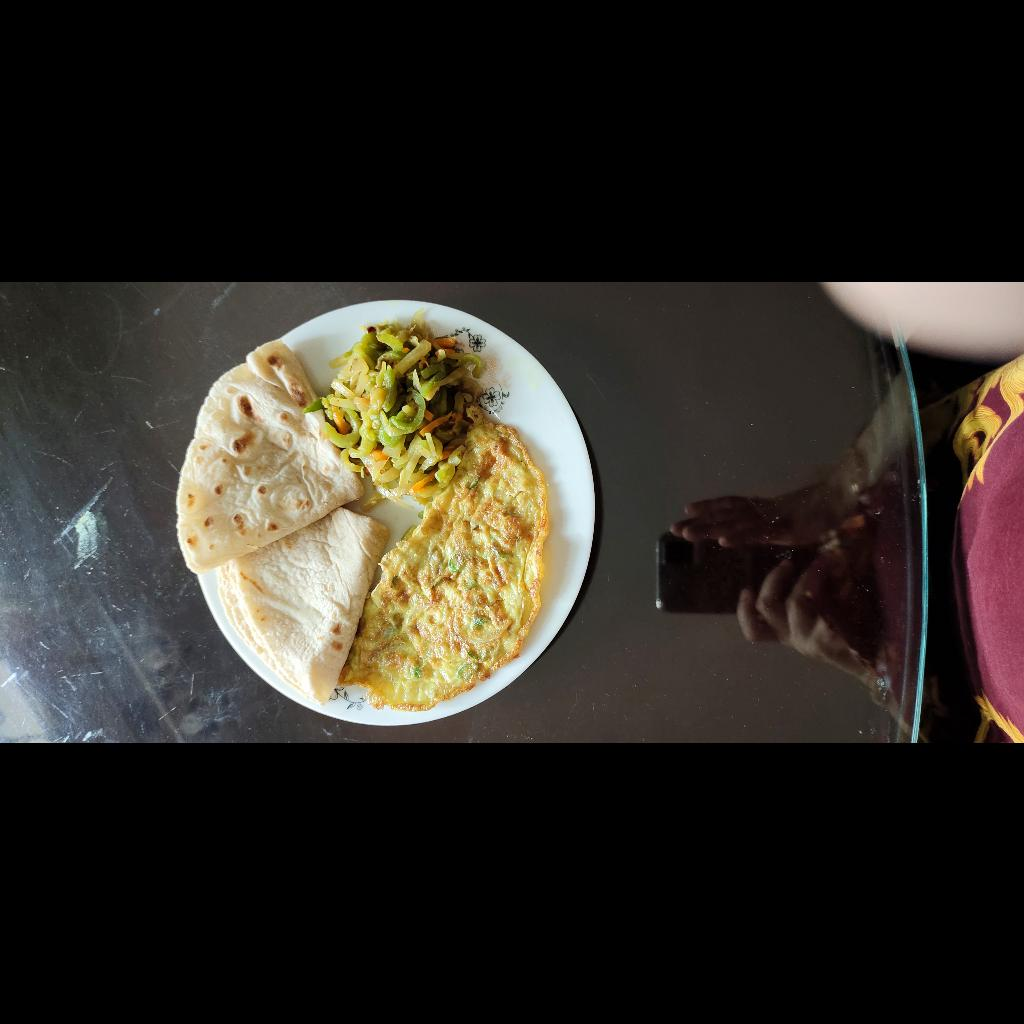egg-poached: (29, 618, 339, 831)
ruti: (36, 458, 407, 675)
vegetable: (225, 585, 423, 766)
